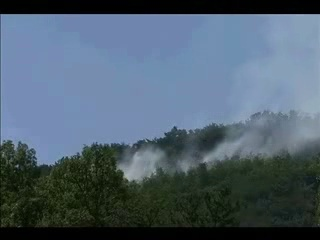smoke: (210, 14, 320, 162), (111, 132, 210, 183)
